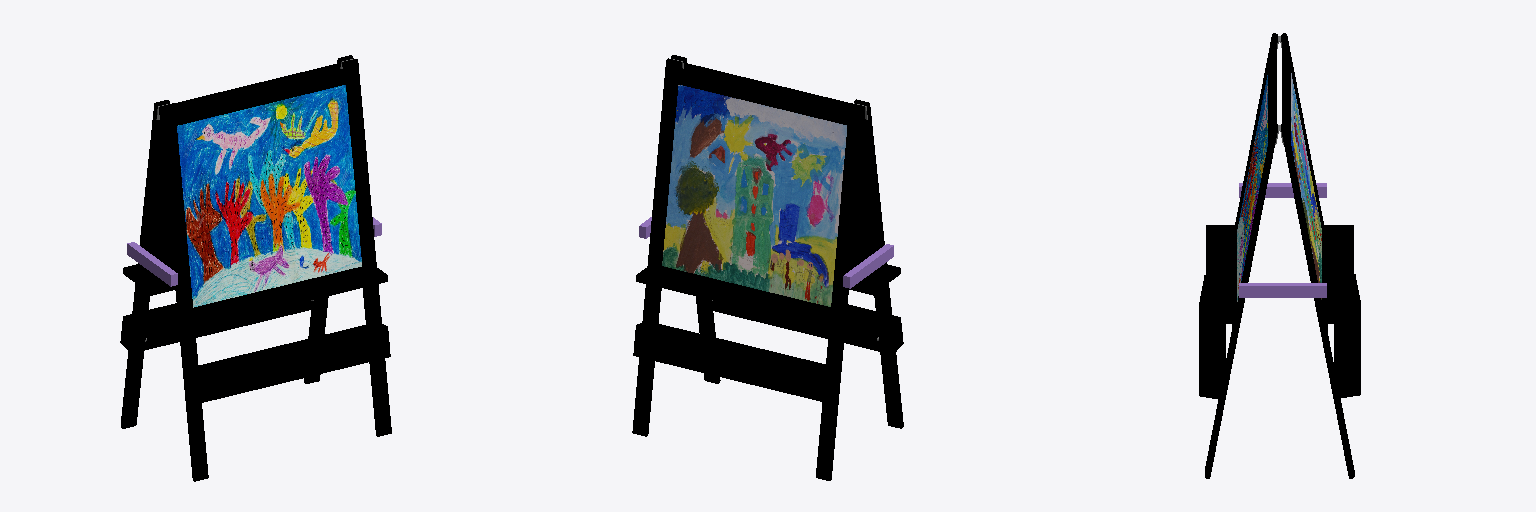
3 views of the same model, side by side, from view 1: azimuth 30°, elevation 25°; view 2: azimuth 150°, elevation 25°; view 3: azimuth 270°, elevation 25° (orthographic).
Visible parts, largest first — view 1: Twist005; view 2: Twist005; view 3: Twist005.
Part boxes in pixels (bbox=[...]): Twist005: bbox=[120, 55, 391, 481]; Twist005: bbox=[632, 55, 903, 480]; Twist005: bbox=[1199, 33, 1360, 478].
Bounding box in the file's own units: 3.3 × 5.22 × 2.19.
6 materials, 3 textured.